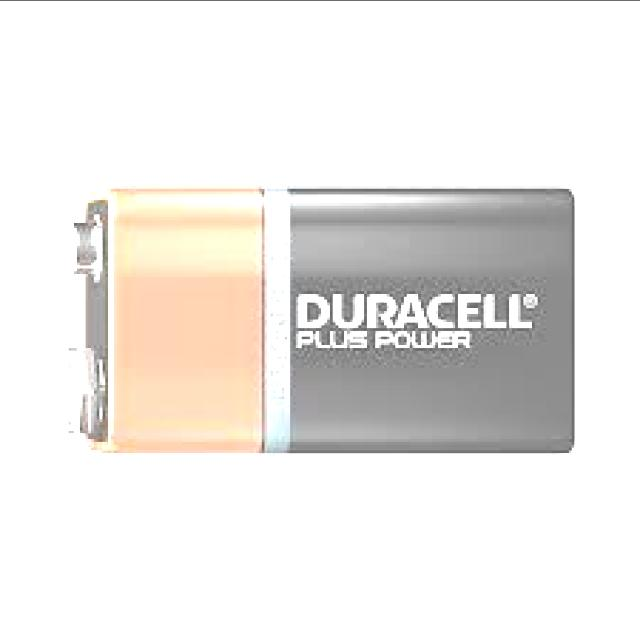9V: (59, 185, 574, 458)
